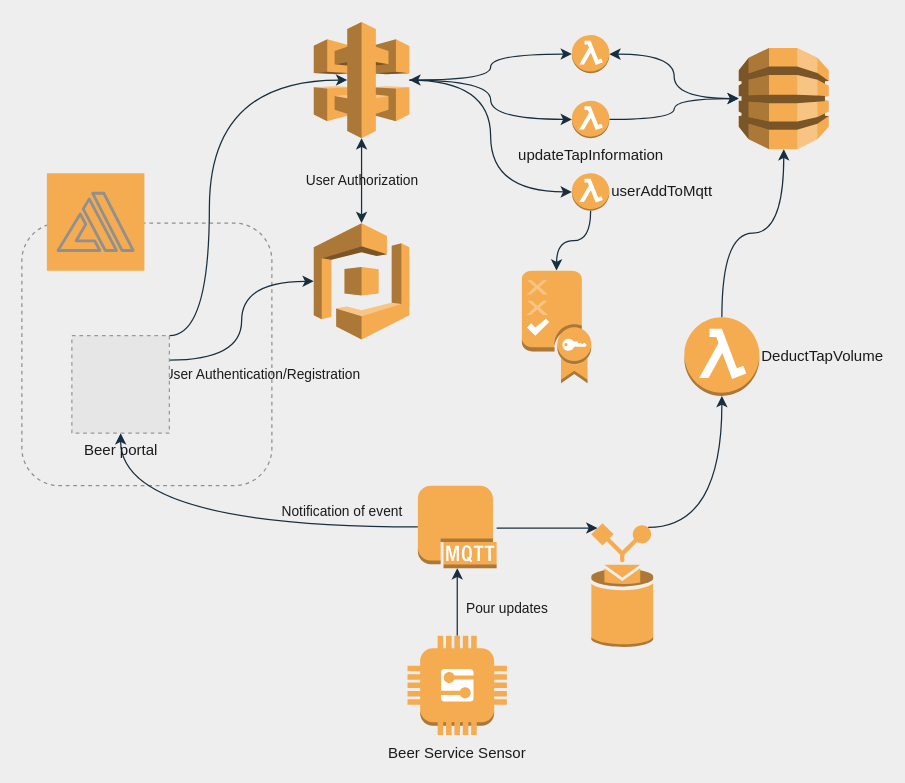
Image size: 905x783. Some labels were removed from this diagram. Grey dashed boxes stand in for pictures. The shapes that lost their labels are listed below. From the top down, each one's centre as x and y in pixels, then its label:
point 590,53: getTaps
point 556,326: UpdateWebNotificationPolicy
point 621,584: Tap Update Rule
